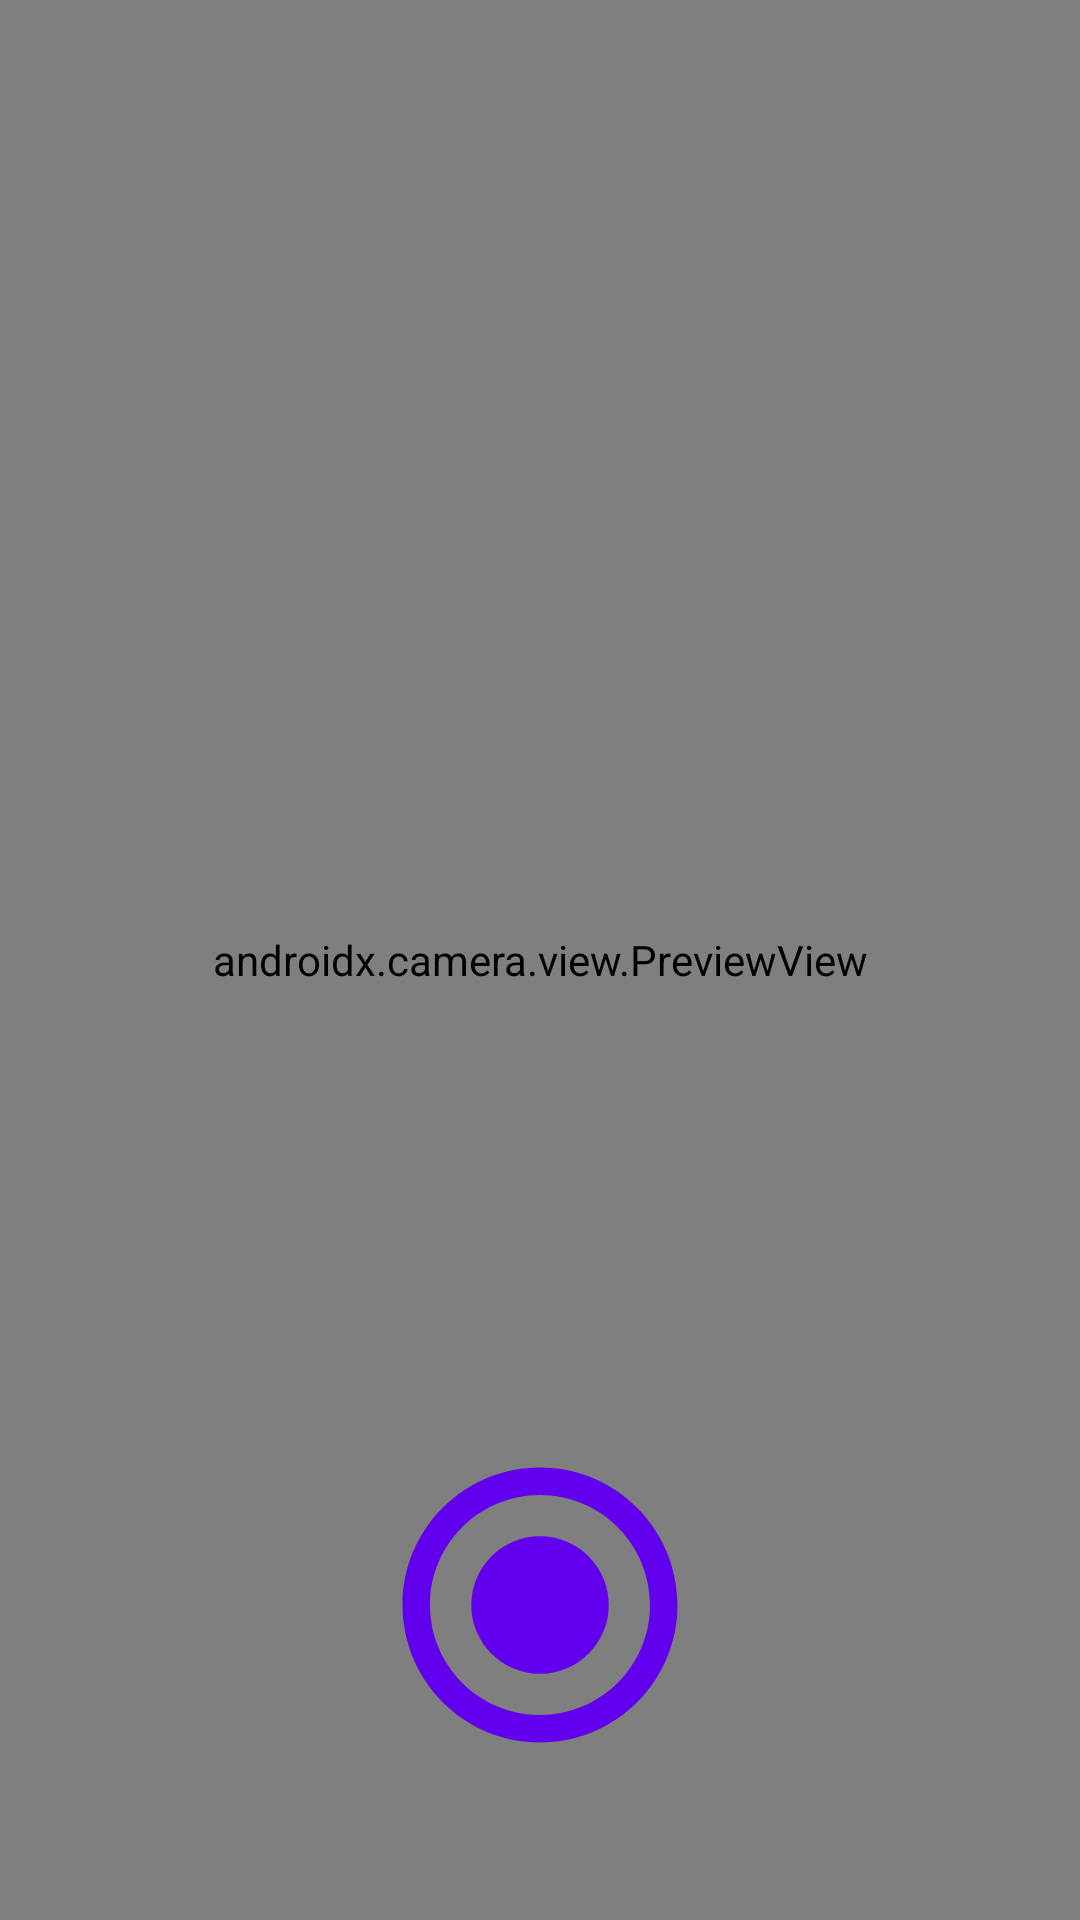

Icons on this 1080w x 1920h Android screen, each with its box as (x1, y1, x2, y2):
record: (402, 1467, 678, 1743)
